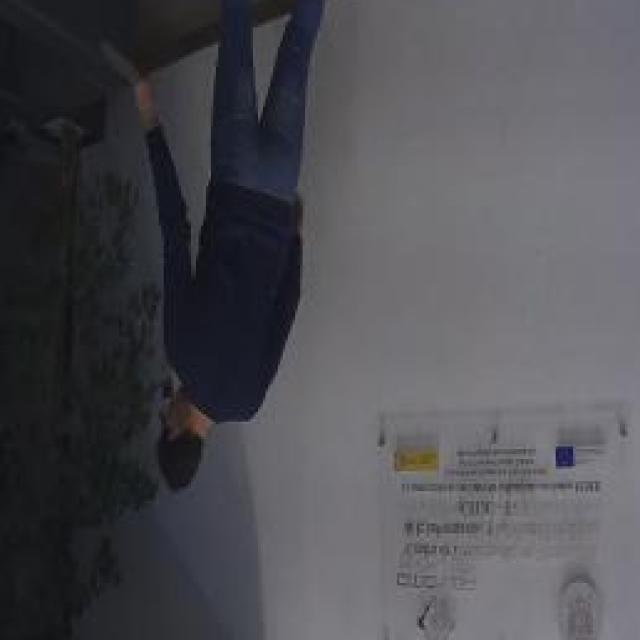knife: (96, 35, 158, 104)
